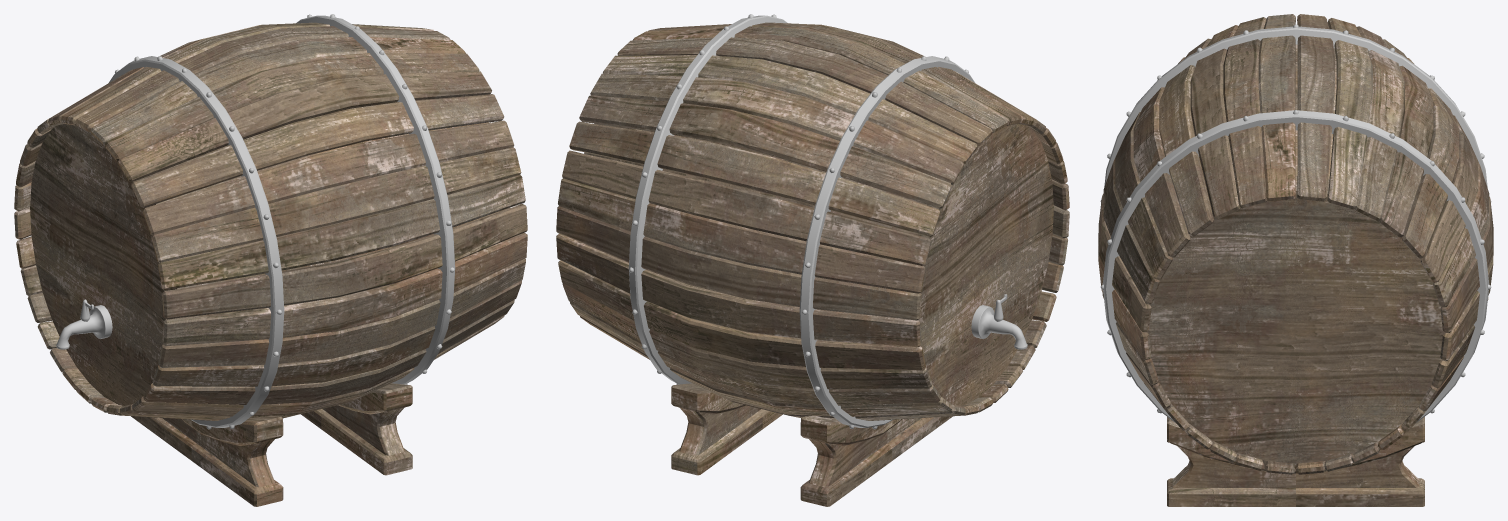
The model's file is SM_Large_Keg.fbx.
3 renders of one model, left to right at view 1: azimuth 30°, elevation 25°; view 2: azimuth 150°, elevation 25°; view 3: azimuth 270°, elevation 25°, orthographic.
Parts seen in each view (by area): view 1: SM_Large_Keg_LOD0; view 2: SM_Large_Keg_LOD0; view 3: SM_Large_Keg_LOD0.
Boxes of the visible parts, x1=… form: SM_Large_Keg_LOD0: x1=14, y1=14, x2=527, y2=506; SM_Large_Keg_LOD0: x1=556, y1=14, x2=1069, y2=506; SM_Large_Keg_LOD0: x1=1098, y1=14, x2=1493, y2=506.
Bounding box in the file's own units: 133 × 113 × 127.
